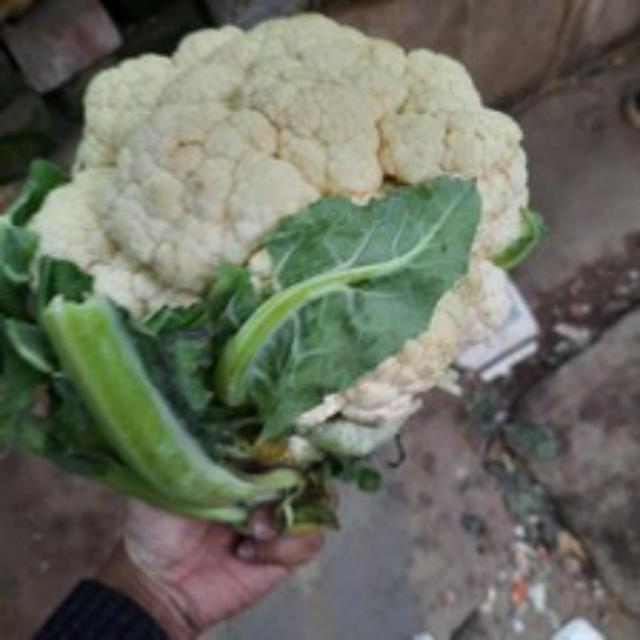cauliflower: (23, 7, 537, 487)
